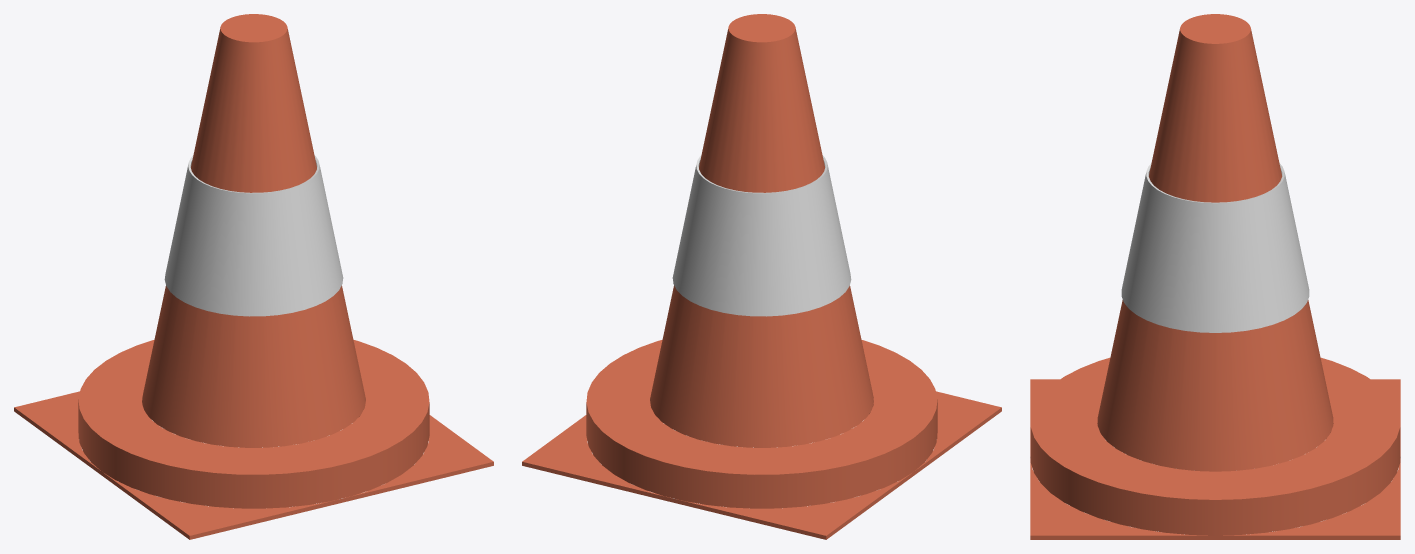
The model's file is orange_cone.dae.
3 views of the same model, side by side, from view 1: azimuth 30°, elevation 25°; view 2: azimuth 150°, elevation 25°; view 3: azimuth 270°, elevation 25° (orthographic). The views are drawn at different scales.
Visible parts, largest first — view 1: 634abb3b7bfb904859ff374d (×6); view 2: 634abb3b7bfb904859ff374d (×6); view 3: 634abb3b7bfb904859ff374d (×7).
Boxes of the visible parts, bbox=[...] form: 634abb3b7bfb904859ff374d (×6): bbox=[14, 14, 493, 539]; 634abb3b7bfb904859ff374d (×6): bbox=[522, 14, 1001, 539]; 634abb3b7bfb904859ff374d (×7): bbox=[1030, 14, 1400, 539].
Bounding box in the file's own units: 0.235 × 0.235 × 0.303.
